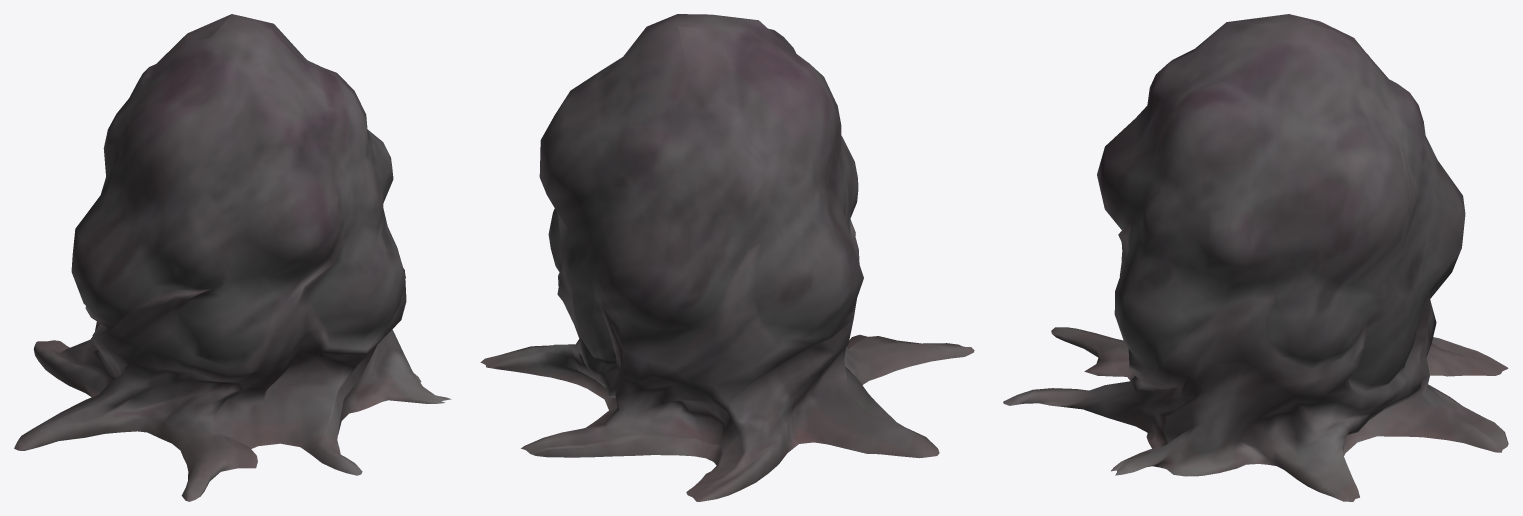
File: Cocoon (12).fbx
3 renders of one model, left to right at view 1: azimuth 30°, elevation 25°; view 2: azimuth 150°, elevation 25°; view 3: azimuth 270°, elevation 25°, orthographic. The views are drawn at different scales.
Parts seen in each view (by area): view 1: Egg; view 2: Egg; view 3: Egg.
Part boxes in pixels (bbox=[...]): Egg: bbox=[14, 14, 451, 501]; Egg: bbox=[480, 14, 974, 501]; Egg: bbox=[1003, 14, 1508, 501].
Size of the model in its own units: 1.14 by 0.9858 by 1.13.
Materials: 1 (1 with a texture image).
